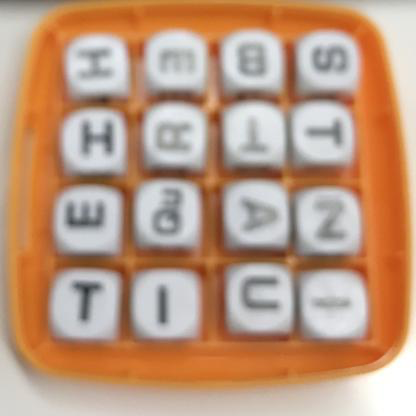a: (229, 183, 285, 244)
b: (229, 33, 279, 87)
e: (52, 192, 120, 244), (155, 36, 201, 86)
h: (63, 108, 128, 170), (63, 34, 127, 95)
i: (302, 268, 368, 335), (136, 275, 194, 337)
q: (140, 183, 199, 245)
r: (150, 111, 202, 164)
s: (306, 33, 353, 83)
t: (55, 268, 109, 344), (295, 103, 355, 159), (229, 106, 283, 164)
u: (231, 266, 289, 332)
z: (305, 185, 362, 254)
